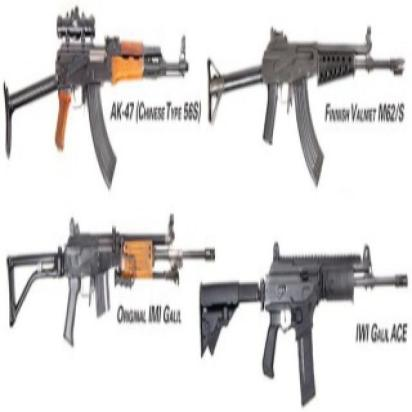Gun: (193, 248, 408, 407), (197, 21, 404, 186), (0, 8, 188, 188), (0, 224, 218, 346)
